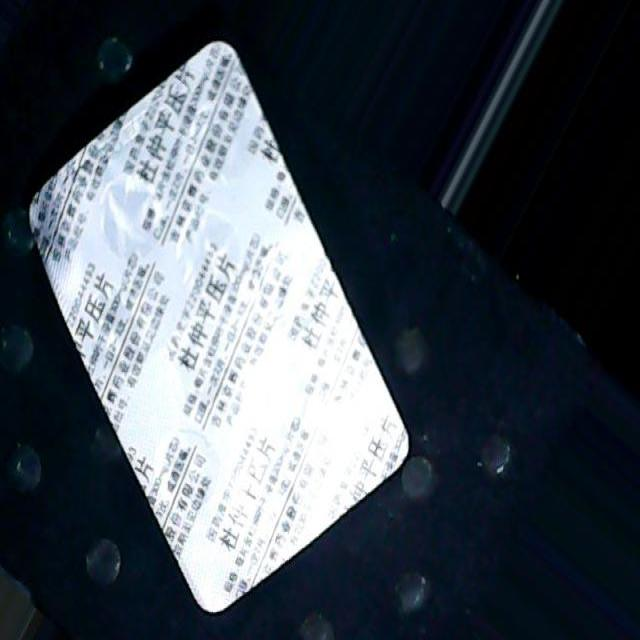-Hazardous waste - medicine inner packaging-: (31, 44, 406, 610)
